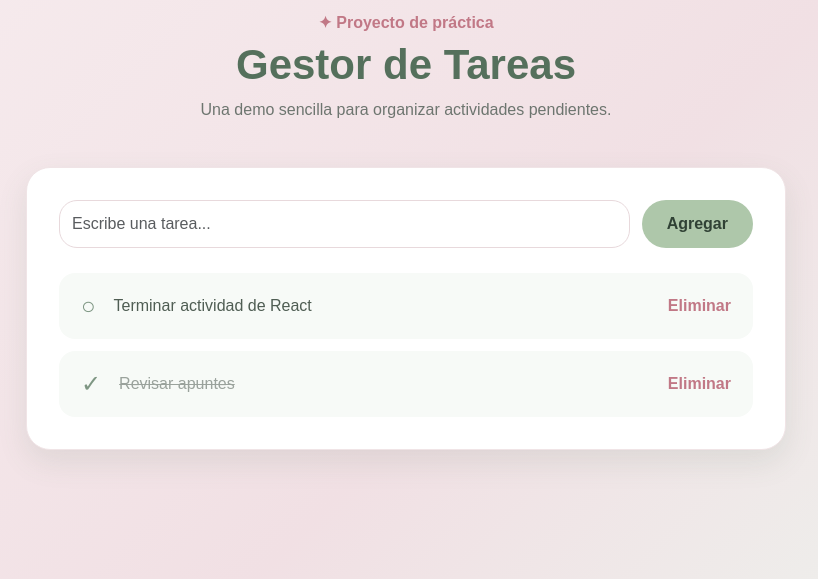
Test: DemoTareas › agrega una tarea nueva
Type "Estudiar React" into the field named "Nueva tarea" at (344, 224), box [59,200,630,248]
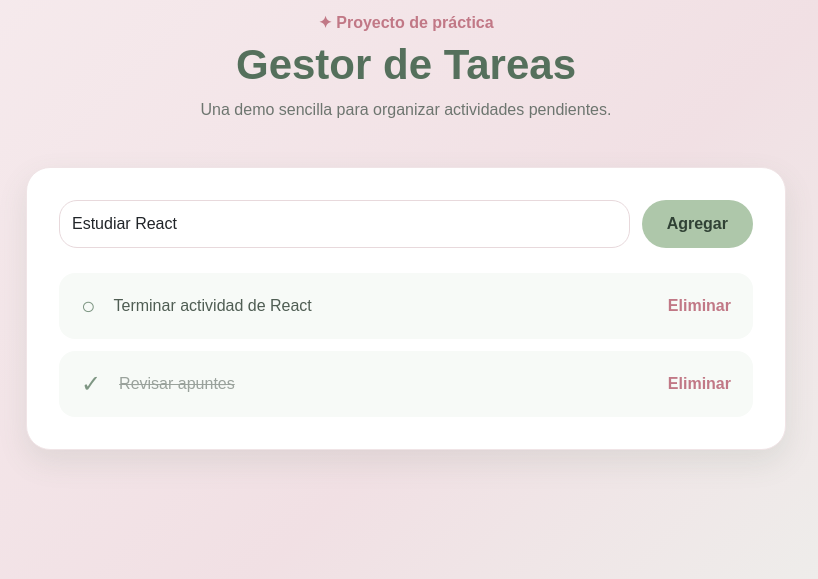
Click the button "Agregar" at (697, 224), box [642,200,753,248]
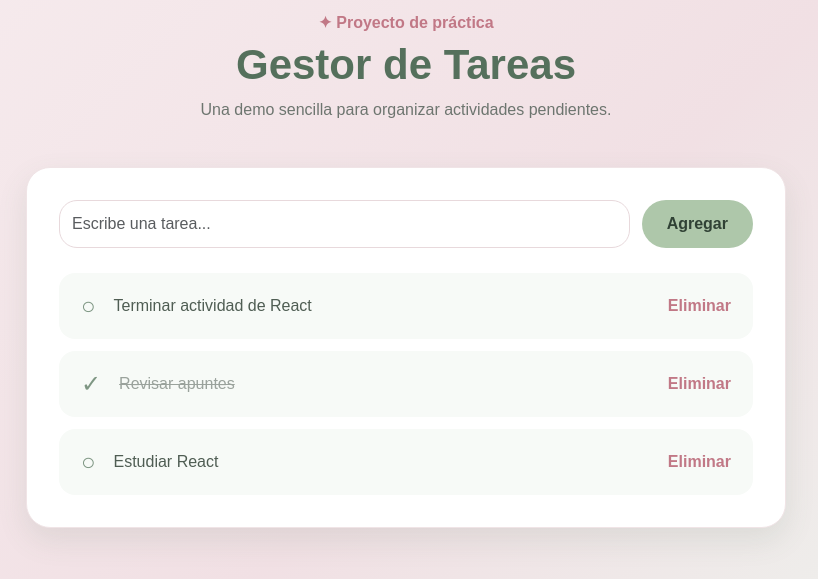
Result: the text "Estudiar React" is shown at [114,453,218,470]
